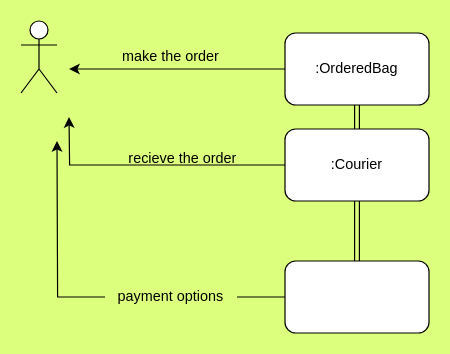
Image size: 450x354. Some labels were removed from this diagram. Here are the shapes that lost their labels. From the top down, the centre of each, then its label:
(x=38, y=56): Client
(x=356, y=296): :Payment method
